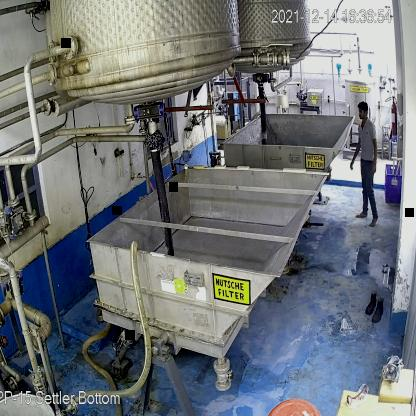no_shoes: (368, 208, 381, 232), (355, 207, 368, 220)
